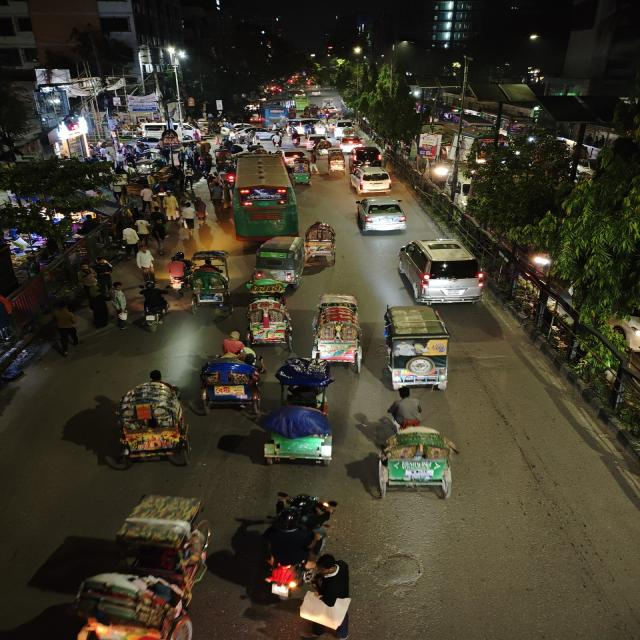bicycle: (136, 284, 170, 332)
bus: (226, 154, 299, 244), (263, 98, 294, 122)
car: (394, 237, 490, 304), (352, 195, 411, 237), (346, 166, 396, 194), (349, 146, 385, 166), (338, 134, 364, 150), (252, 128, 274, 143), (336, 121, 355, 135)
cng: (247, 235, 305, 291)
motorcycle: (248, 503, 331, 603), (165, 250, 189, 294)
pedestrian: (299, 553, 360, 640), (44, 304, 81, 356), (137, 283, 169, 332), (80, 287, 115, 328), (110, 282, 131, 330), (219, 330, 247, 361), (178, 202, 200, 238), (120, 224, 142, 258), (134, 246, 157, 278), (150, 218, 170, 254), (92, 258, 114, 288), (134, 218, 154, 248), (161, 191, 180, 222), (85, 262, 106, 290), (110, 305, 130, 331), (193, 198, 208, 225), (139, 187, 154, 211)
rickshaw: (64, 478, 203, 640), (364, 406, 473, 504), (100, 366, 194, 471), (376, 303, 462, 399), (253, 398, 346, 468), (309, 292, 365, 373), (195, 355, 264, 415), (273, 355, 337, 407), (188, 256, 234, 319), (244, 297, 296, 348), (302, 218, 339, 266), (288, 154, 314, 186), (326, 149, 347, 171), (318, 145, 337, 163)
